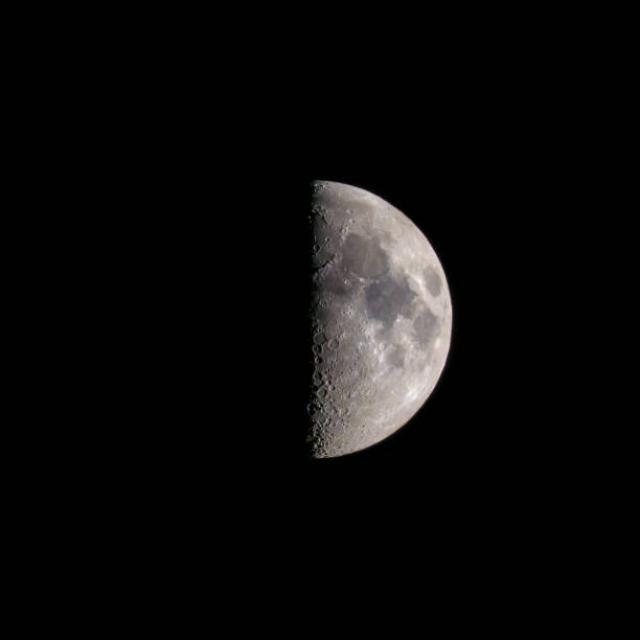moon: (172, 159, 454, 467)
